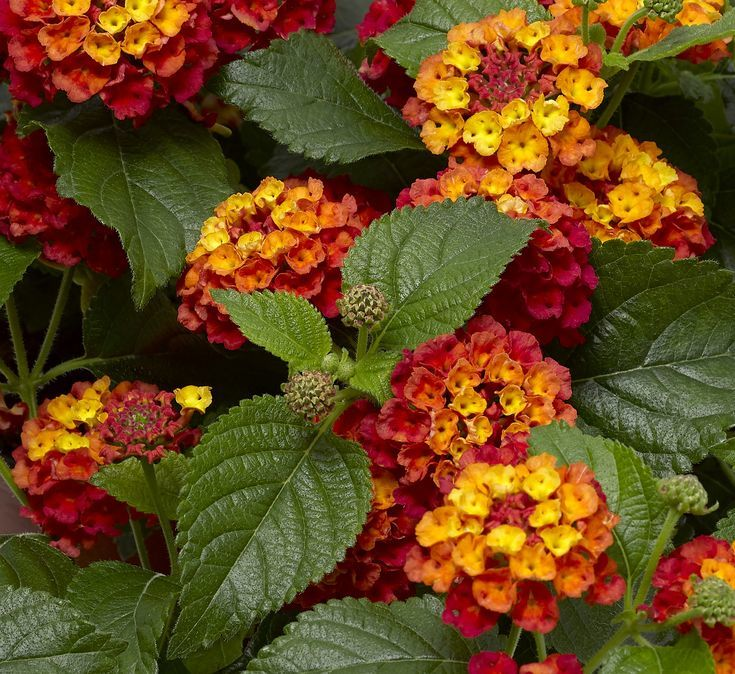lantana: (416, 506, 479, 542), (512, 584, 559, 632), (383, 400, 430, 446), (41, 15, 89, 59), (421, 107, 466, 153), (552, 120, 596, 163), (474, 570, 518, 611), (501, 130, 548, 168), (405, 369, 449, 408), (560, 72, 605, 110), (511, 546, 556, 582), (552, 557, 592, 597), (557, 483, 596, 521), (609, 184, 650, 218), (146, 39, 184, 73), (578, 523, 614, 558), (84, 32, 121, 66), (287, 239, 323, 272), (456, 536, 486, 574), (546, 36, 585, 65), (535, 95, 565, 132), (430, 408, 456, 450), (281, 271, 322, 297), (173, 386, 211, 414), (467, 118, 497, 152), (543, 527, 578, 553), (437, 78, 468, 107), (451, 387, 484, 414), (529, 497, 557, 528), (528, 468, 557, 497), (444, 43, 476, 69), (491, 527, 523, 552), (206, 243, 235, 268), (497, 100, 524, 124), (100, 7, 128, 30), (500, 384, 523, 412), (72, 399, 98, 422), (519, 24, 548, 43)
